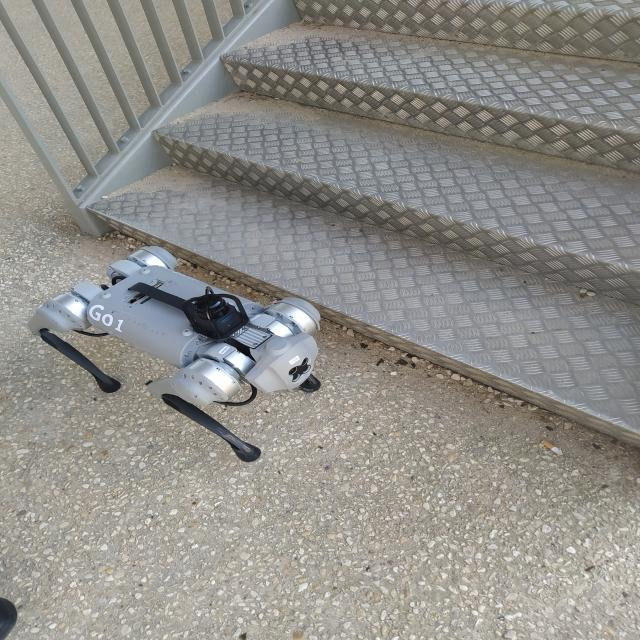unitree-go1-robot: (22, 236, 336, 473)
